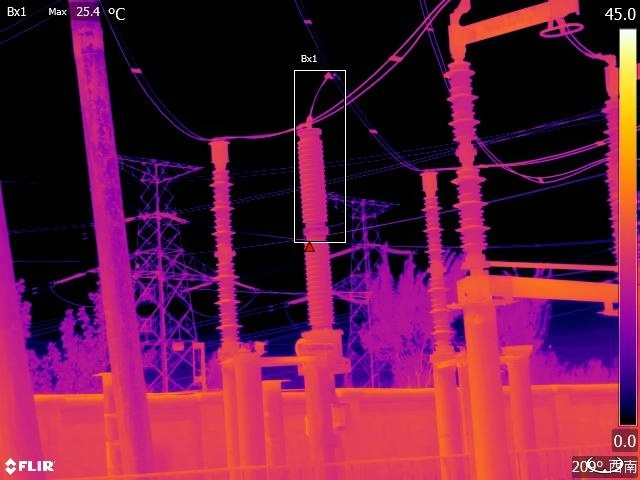clamp: (318, 61, 340, 87)
post insulator: (443, 52, 491, 272), (204, 135, 249, 353), (415, 168, 457, 348), (594, 54, 618, 255)
potential transformer: (290, 117, 352, 367)
switch: (446, 1, 585, 55)
